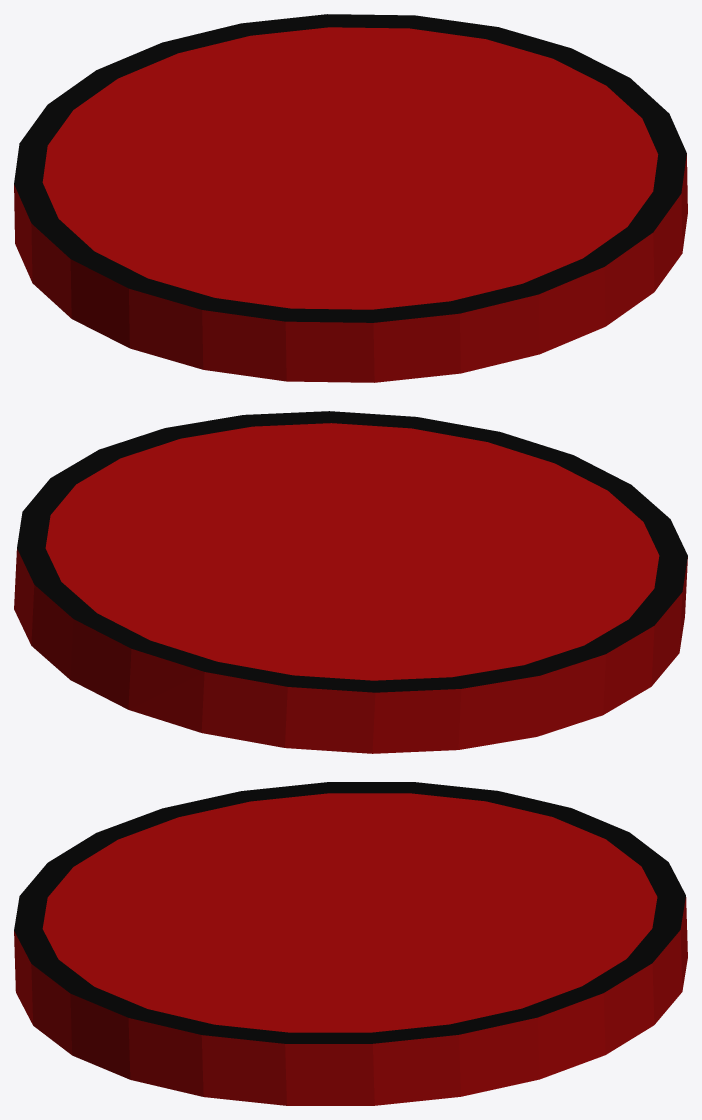
File: puck2.obj
3 renders of one model, top to bottom at view 1: azimuth 30°, elevation 25°; view 2: azimuth 150°, elevation 25°; view 3: azimuth 270°, elevation 25°, orthographic.
Visible parts, largest first — view 1: Mesh_Puck; view 2: Mesh_Puck; view 3: Mesh_Puck.
Part boxes in pixels (x1,y1,x2,y2): Mesh_Puck: (14, 14, 687, 382); Mesh_Puck: (14, 411, 687, 753); Mesh_Puck: (14, 782, 687, 1105).
Bounding box in the file's own units: 2.1 × 0.3021 × 2.1.
